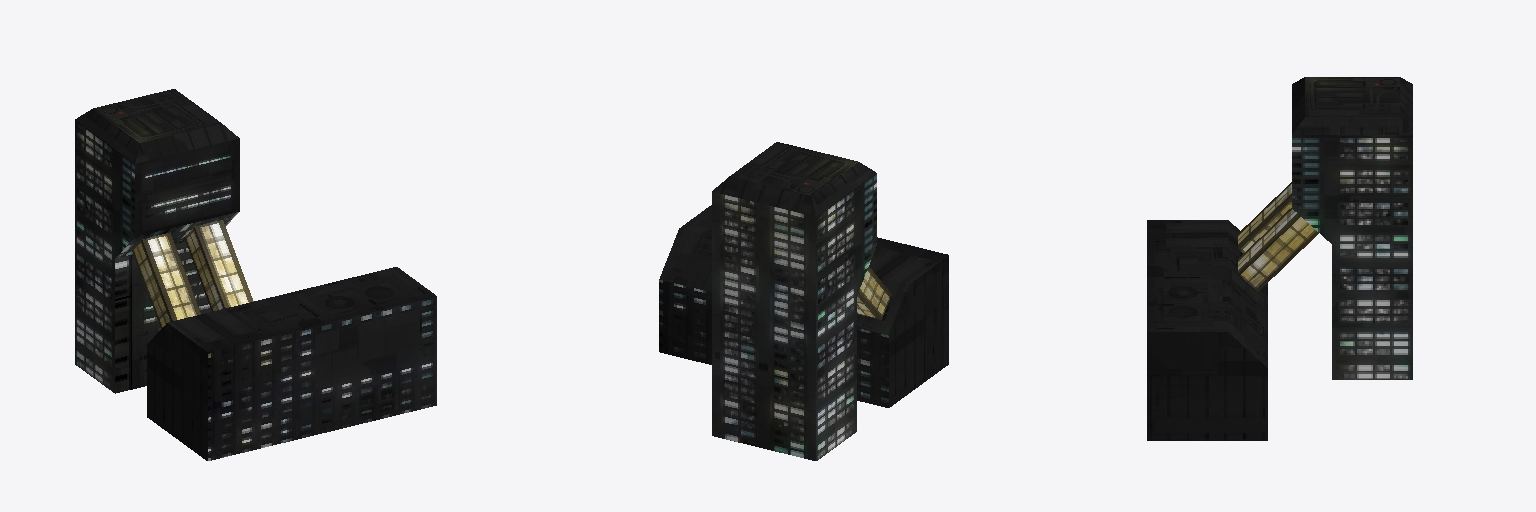
3 views of the same model, side by side, from view 1: azimuth 30°, elevation 25°; view 2: azimuth 150°, elevation 25°; view 3: azimuth 270°, elevation 25° (orthographic).
Visible parts, largest first — view 1: building_45; view 2: building_45; view 3: building_45.
Part boxes in pixels (x1,y1,x2,y2): building_45: (75, 89, 436, 460); building_45: (659, 142, 948, 460); building_45: (1147, 77, 1412, 440).
Size of the model in its own units: 94.54 by 101 by 94.76.
1 materials, 1 textured.